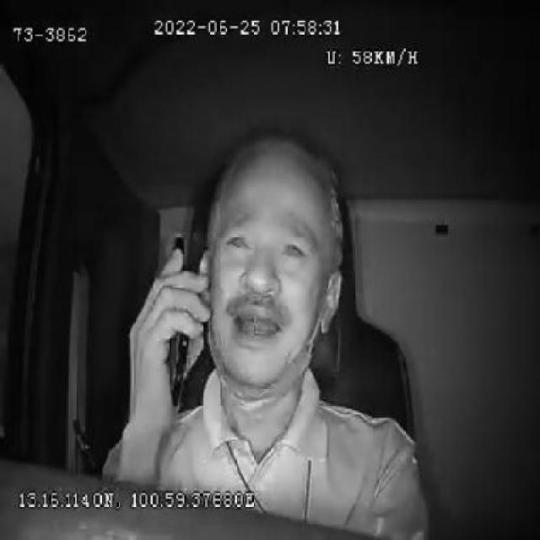phone: (162, 231, 197, 414)
